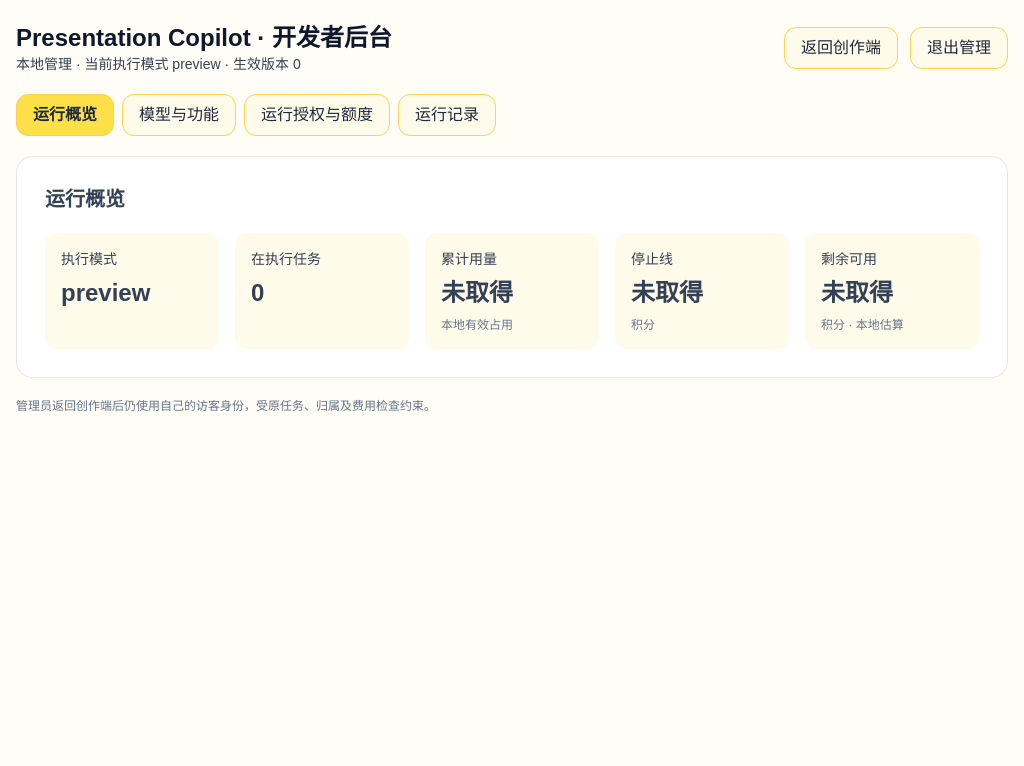
Test: rejects invalid planning default  without saving
Expected: the element named "运行概览指标" is shown, x1=45 y1=233 x2=979 y2=349
Click the button "运行授权与额度" at (317, 115), box x1=244 y1=94 x2=390 y2=136
(page scrolled)
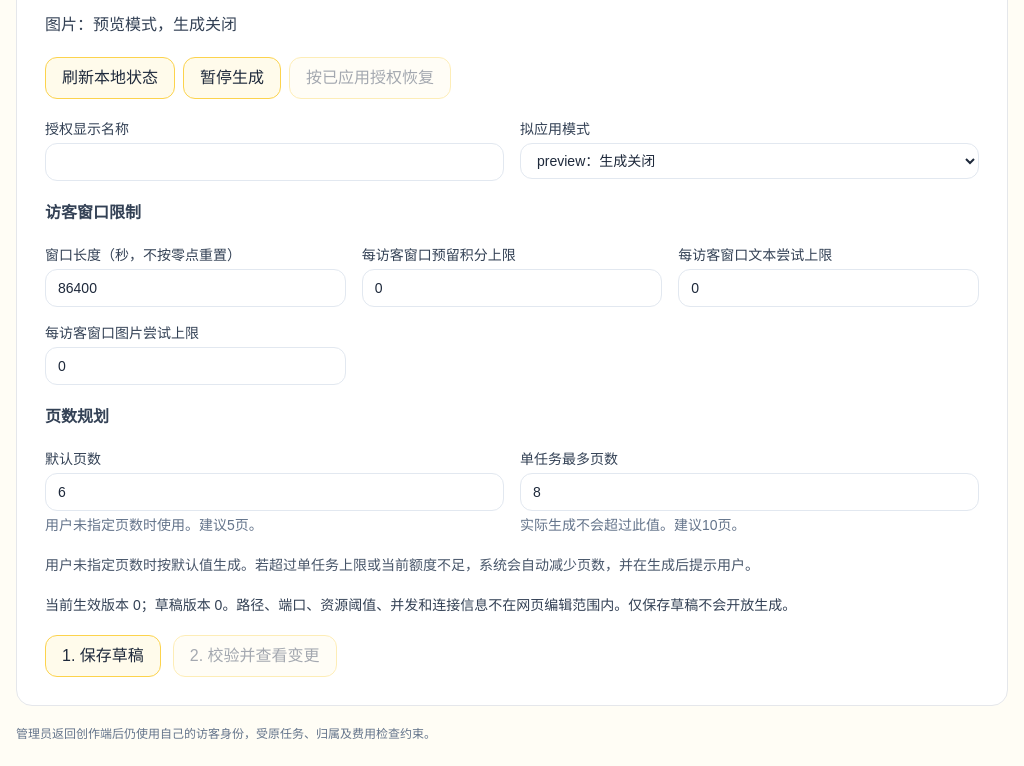
Clear the field labelled "默认页数" at (274, 492), box x1=45 y1=473 x2=504 y2=511
(page scrolled)
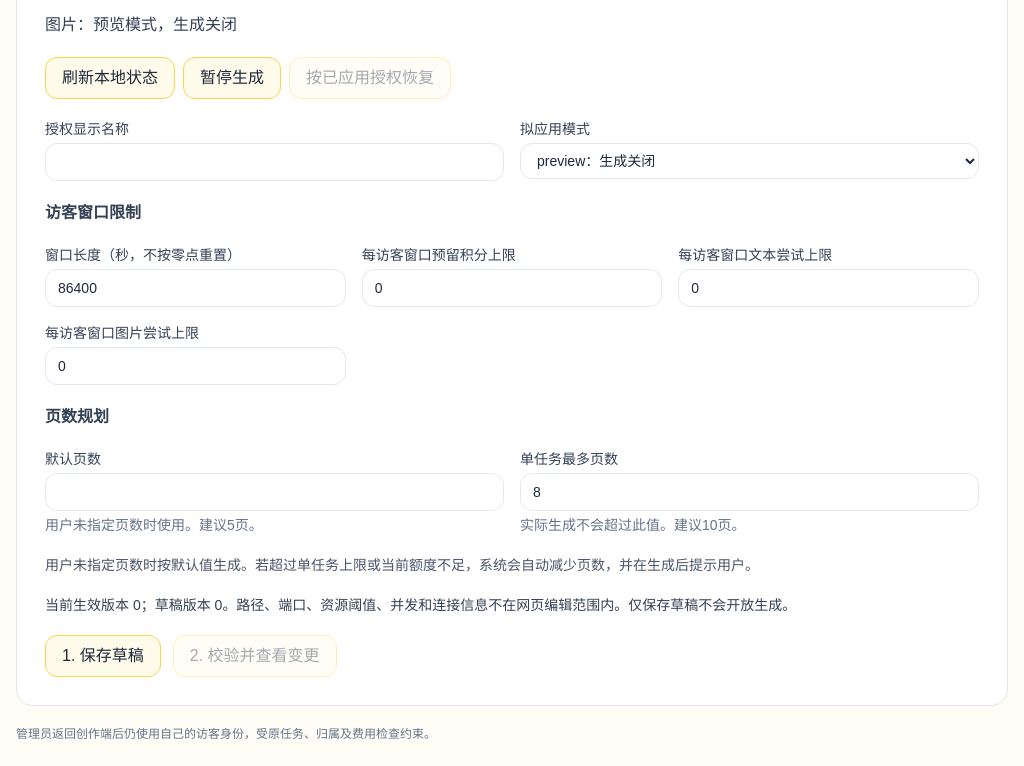
Click the button "1. 保存草稿" at (103, 656), box x1=45 y1=635 x2=161 y2=677
(page scrolled)
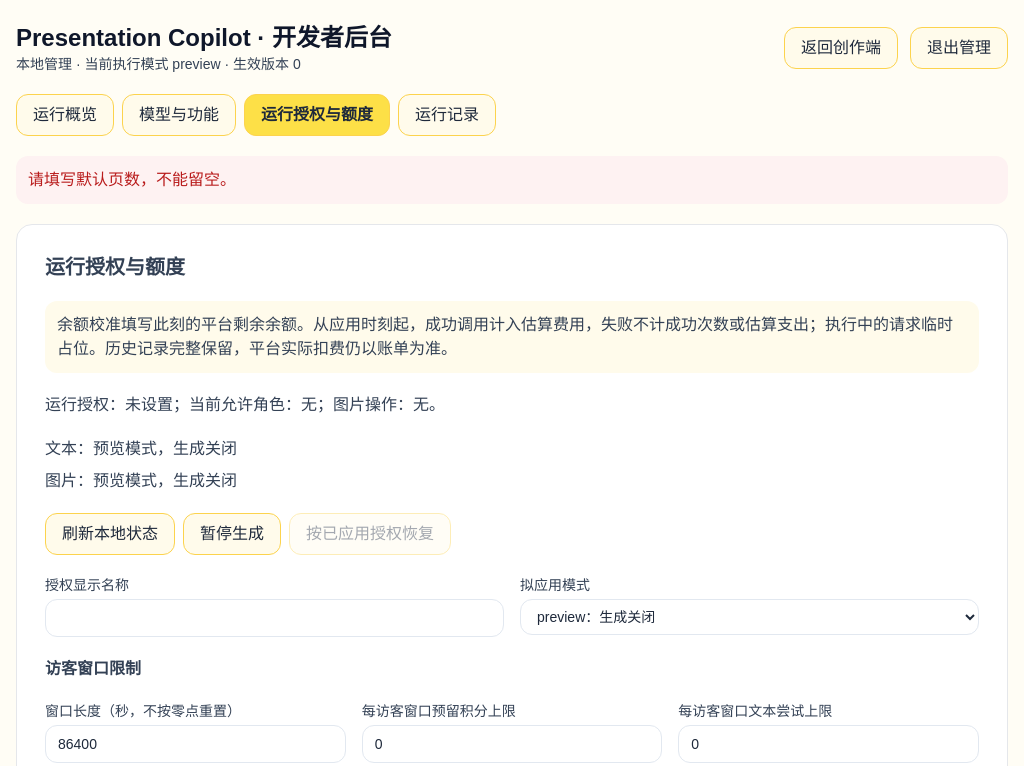
Expected: the message shows "默认页数", x1=28 y1=171 x2=236 y2=188
